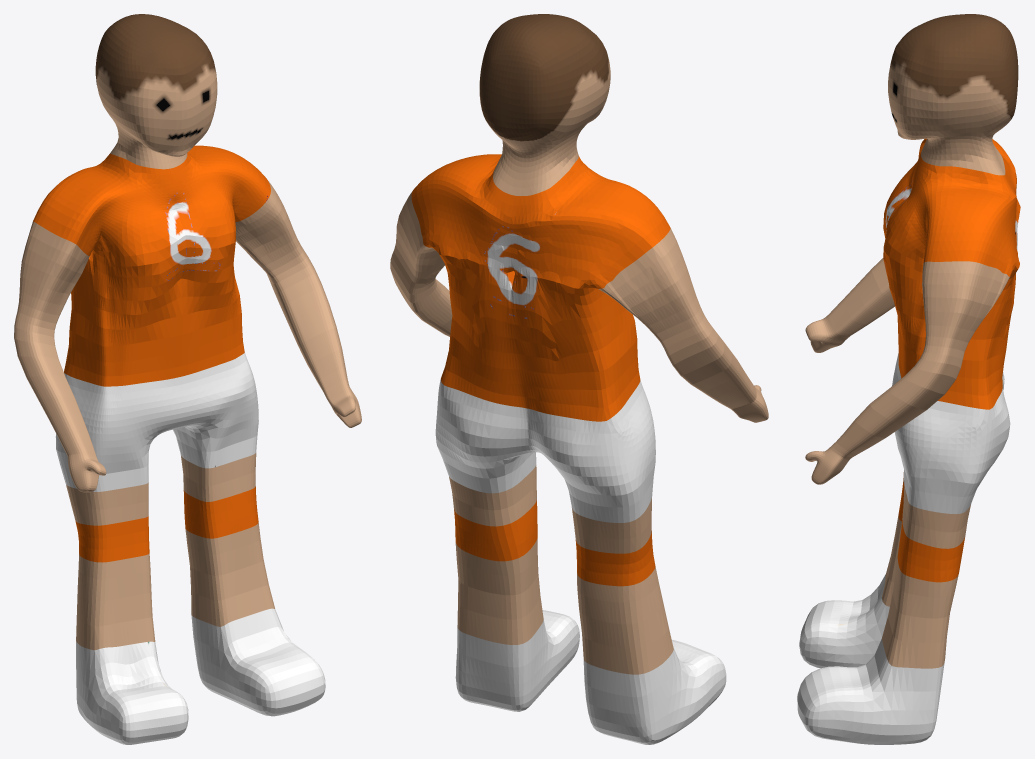
File: JugadoraHA.obj
The picture shows the model from 3 angles, left to right: view 1: azimuth 30°, elevation 25°; view 2: azimuth 150°, elevation 25°; view 3: azimuth 270°, elevation 25°; orthographic projection. The views are drawn at different scales.
Parts seen in each view (by area): view 1: JugadoraHA; view 2: JugadoraHA; view 3: JugadoraHA.
Boxes of the visible parts, <box> form: JugadoraHA: <box>14,14,361,744</box>; JugadoraHA: <box>390,14,768,744</box>; JugadoraHA: <box>797,14,1020,744</box>.
Bounding box in the file's own units: 0.8346 × 1.75 × 0.5202.
Materials: 1 (1 with a texture image).
